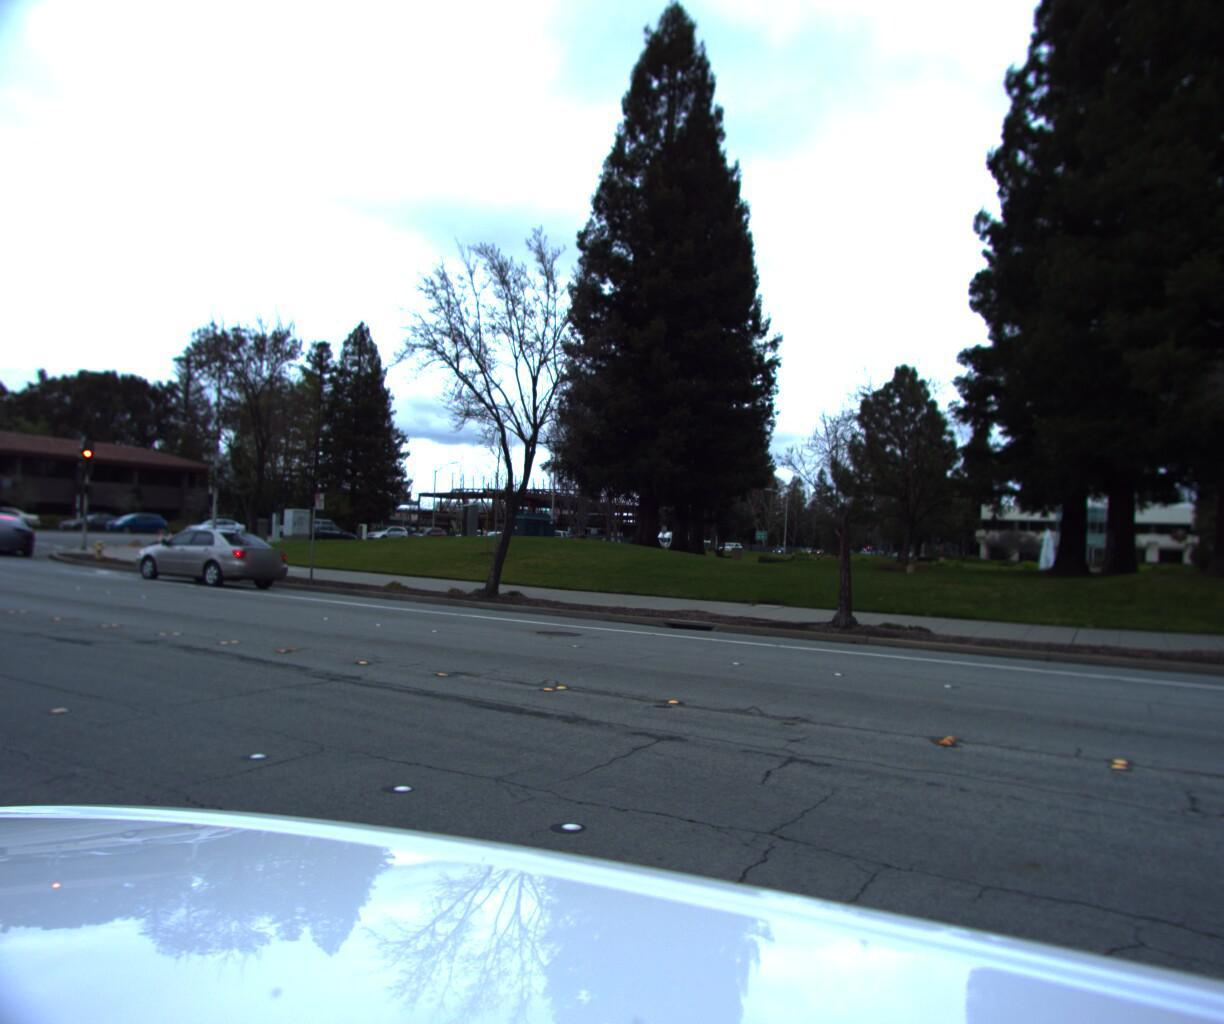car: (126, 529, 292, 595), (97, 513, 175, 539), (54, 515, 132, 538), (176, 518, 252, 541), (0, 517, 37, 562), (0, 508, 48, 537), (360, 525, 415, 545), (0, 504, 26, 537)
